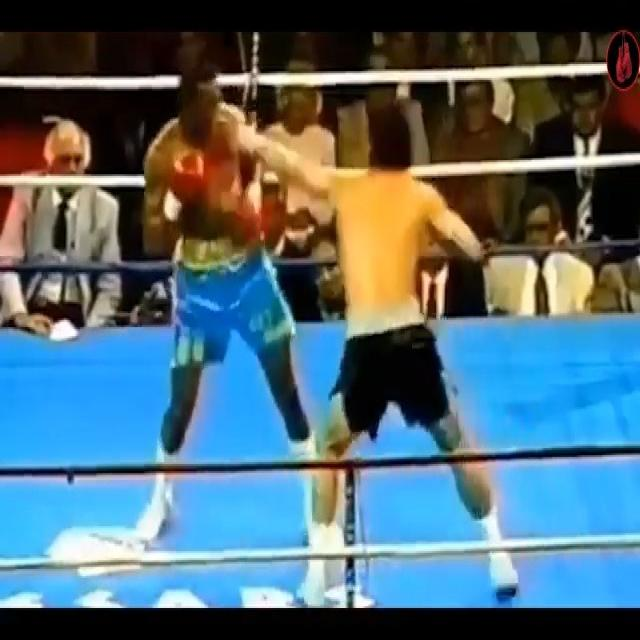Jab: (210, 102, 416, 340)
